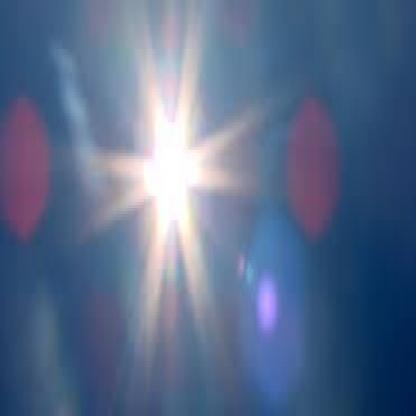other: (135, 81, 208, 235)
